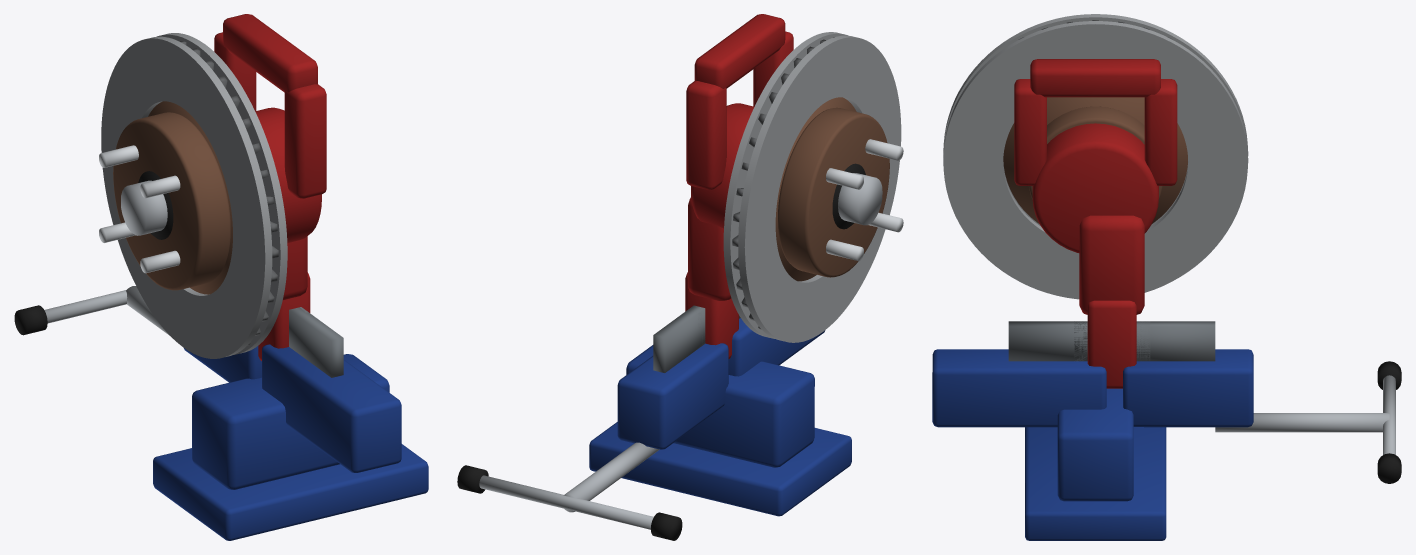
The model's file is disc-fixture.glb.
3 renders of one model, left to right at view 1: azimuth 30°, elevation 25°; view 2: azimuth 150°, elevation 25°; view 3: azimuth 270°, elevation 25°, orthographic. The views are drawn at different scales.
Parts seen in each view (by area): view 1: Rotor, Vise, Knuckle; view 2: Rotor, Vise, Knuckle; view 3: Vise, Rotor, Knuckle.
Part boxes in pixels (box(x1,y1,x2,y2)): Rotor: box(99, 33, 287, 358); Vise: box(14, 286, 428, 540); Knuckle: box(214, 14, 326, 360); Rotor: box(723, 32, 903, 342); Vise: box(457, 305, 851, 540); Knuckle: box(685, 14, 793, 358); Vise: box(932, 321, 1401, 540); Rotor: box(943, 14, 1248, 299); Knuckle: box(1014, 59, 1177, 388).
Size of the model in its own units: 0.2749 by 0.44 by 0.431.
